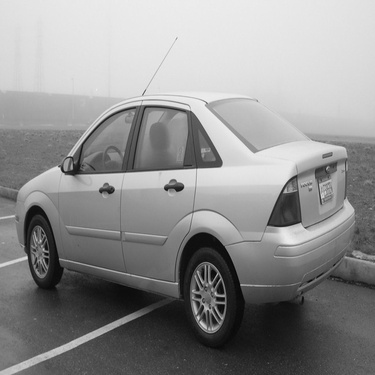car: (19, 84, 364, 308)
